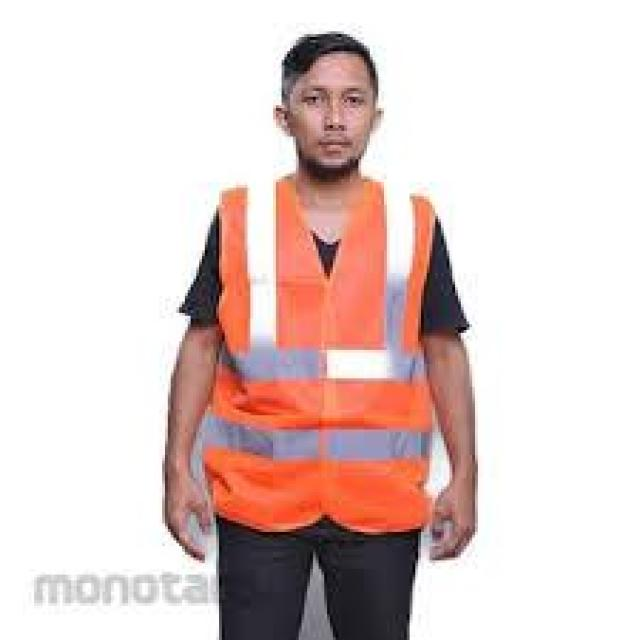vest: (206, 176, 437, 532)
